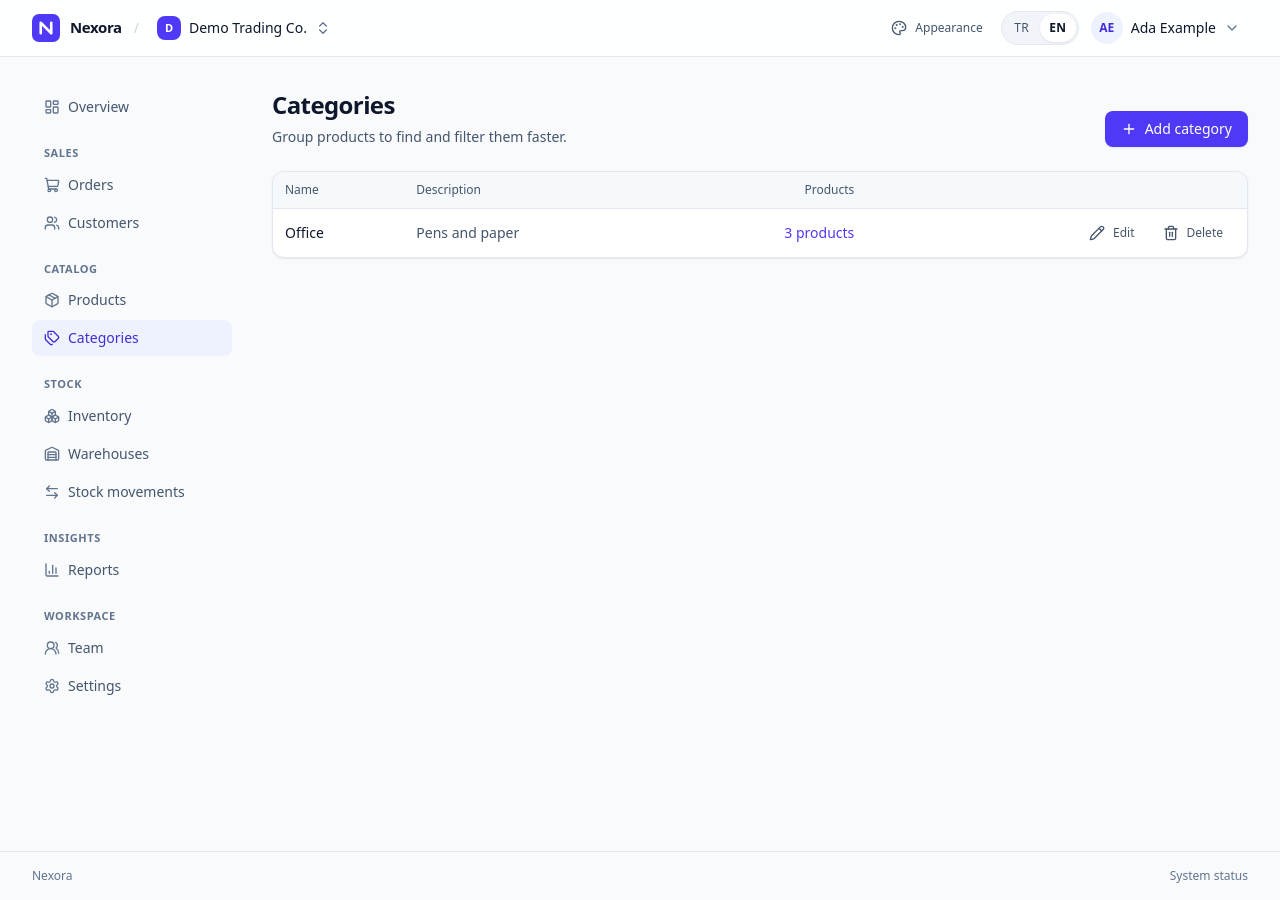
CategoriesPage › explains instead of deleting when the category has products
The image size is (1280, 900).
Expected: the heading "Categories" is shown, [272,88,395,121]
Step 1. Click the button with aria-label "Delete Office" → [1193, 233], box [1150,217,1235,249]
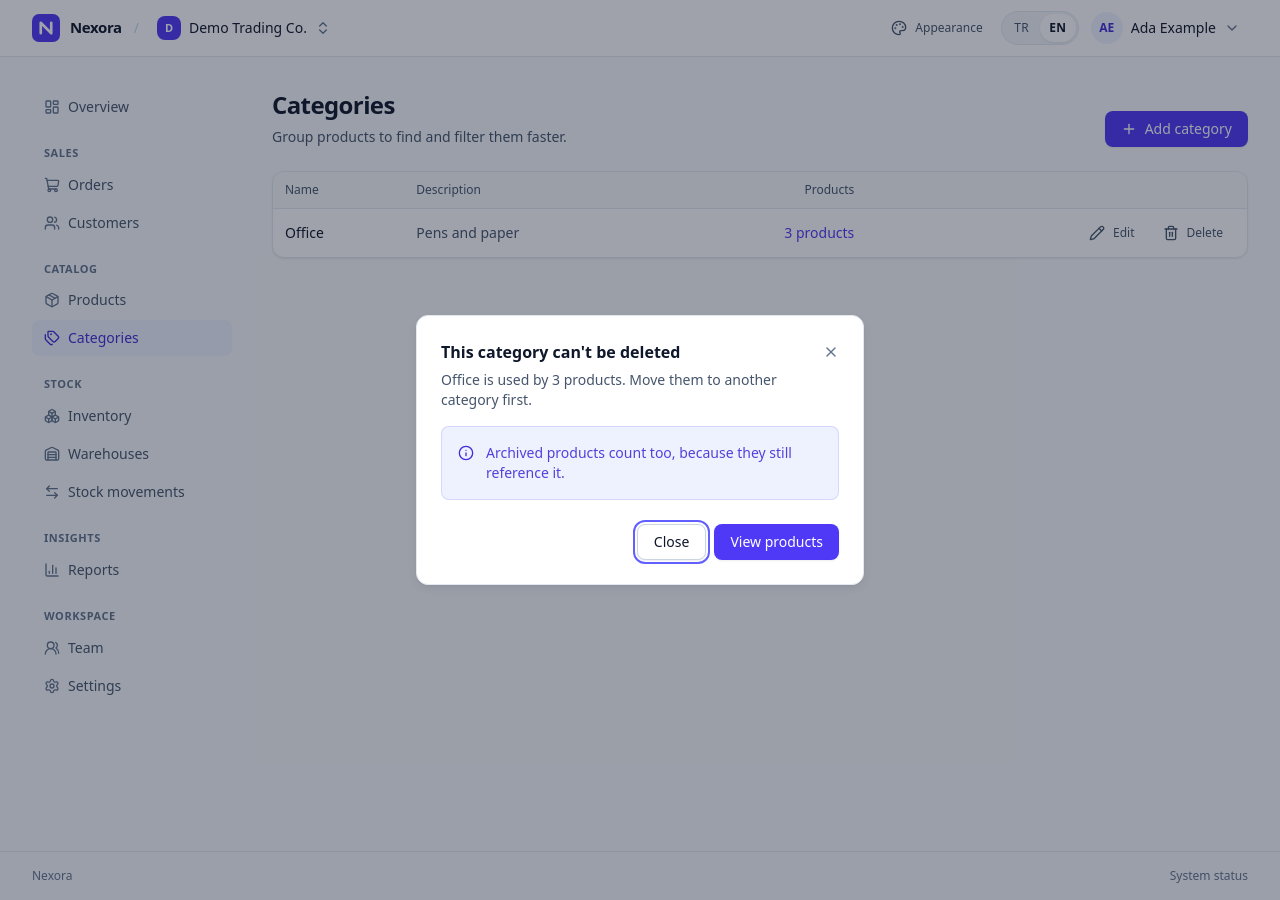
Expected: the dialog "This category can't be deleted" shows "Office is used by 3 products. Move them to another category first.", [441,370,777,409]
